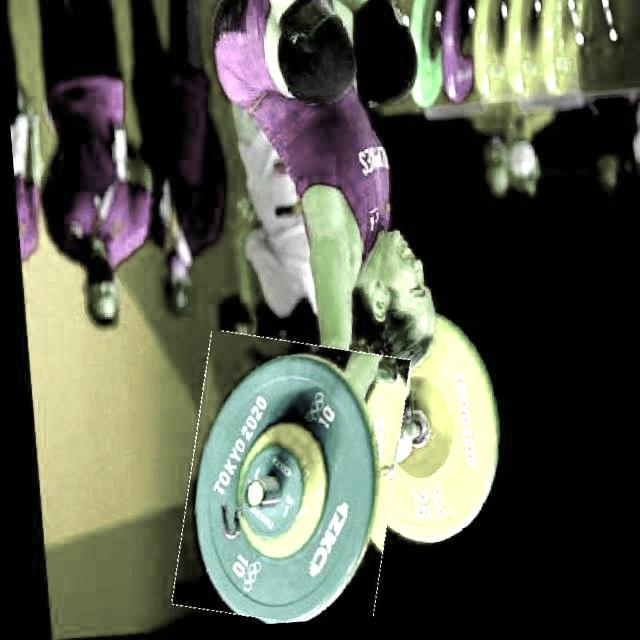barbell: (160, 334, 407, 632)
